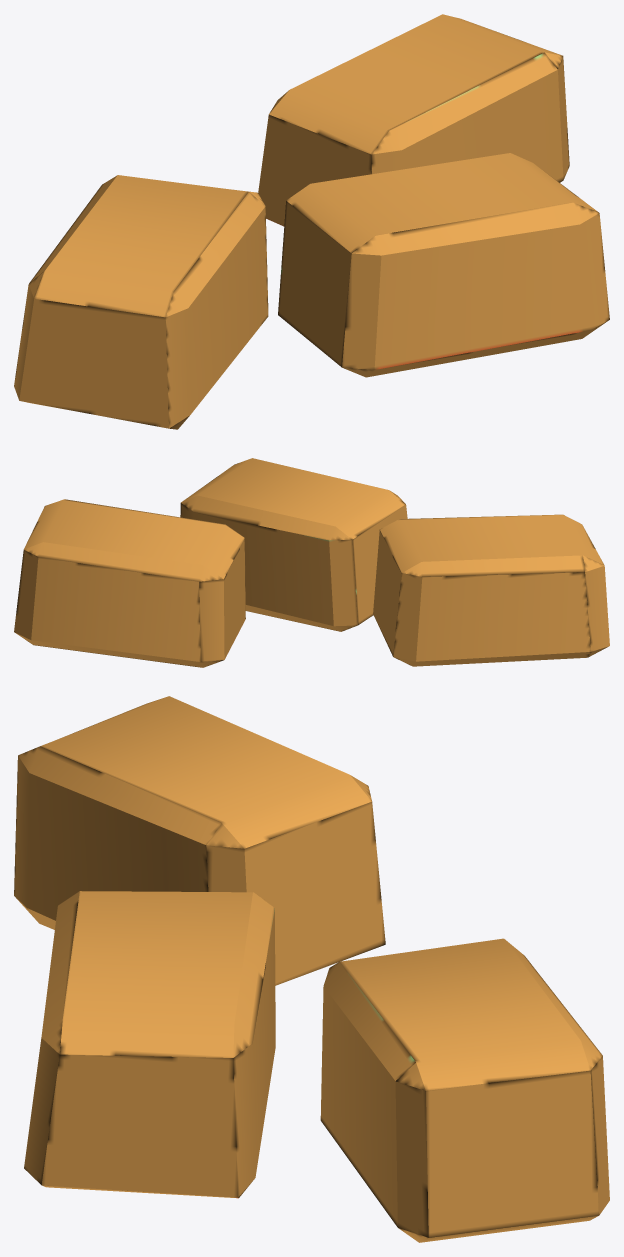
Rendered from Kentang.fbx.
The picture shows the model from 3 angles, top to bottom: view 1: azimuth 30°, elevation 25°; view 2: azimuth 150°, elevation 25°; view 3: azimuth 270°, elevation 25°; orthographic projection. The views are drawn at different scales.
Visible parts, largest first — view 1: Circle.005_Baked.007; view 2: Circle.005_Baked.007; view 3: Circle.005_Baked.007.
Boxes of the visible parts, bbox=[...] form: Circle.005_Baked.007: bbox=[14, 14, 609, 429]; Circle.005_Baked.007: bbox=[14, 458, 609, 667]; Circle.005_Baked.007: bbox=[14, 696, 609, 1242].
Size of the model in its own units: 76.8 by 18.79 by 47.74.
1 material, 1 textured.
